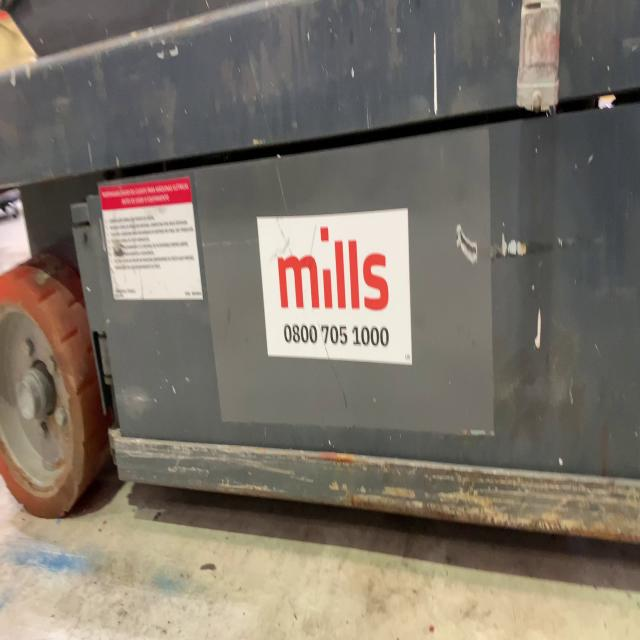Adesivos: (255, 204, 413, 366)
